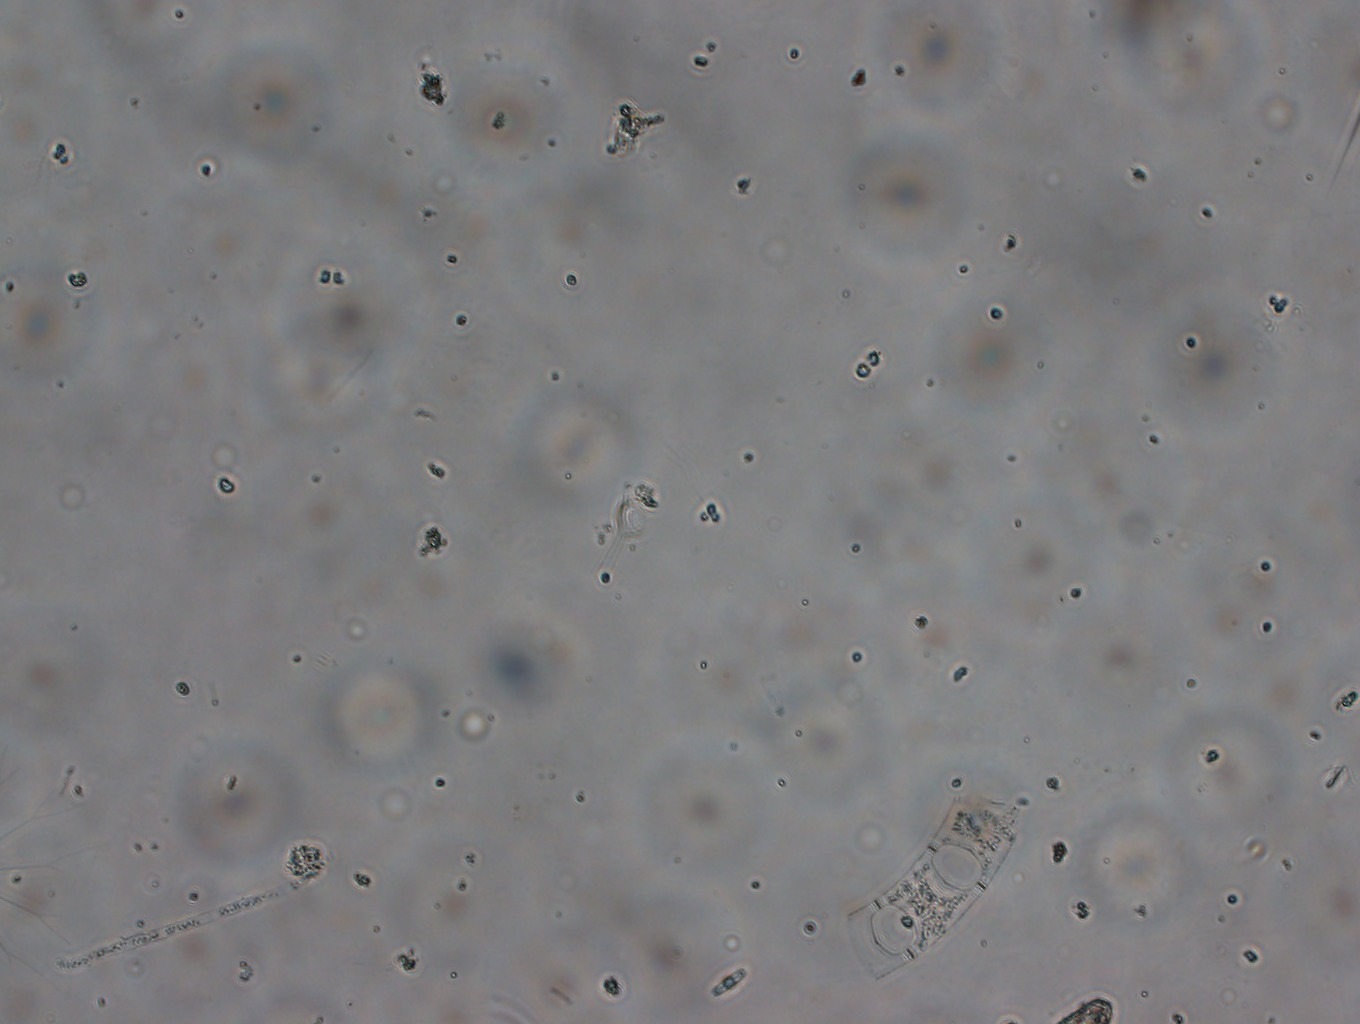eucampia: (810, 766, 1029, 993)
